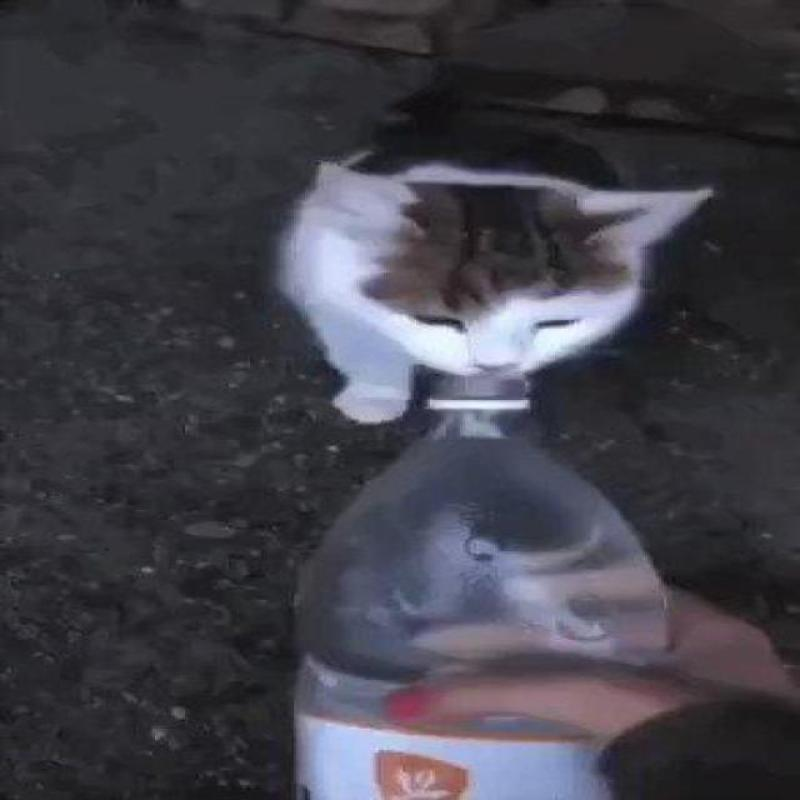botella: (292, 372, 674, 800)
